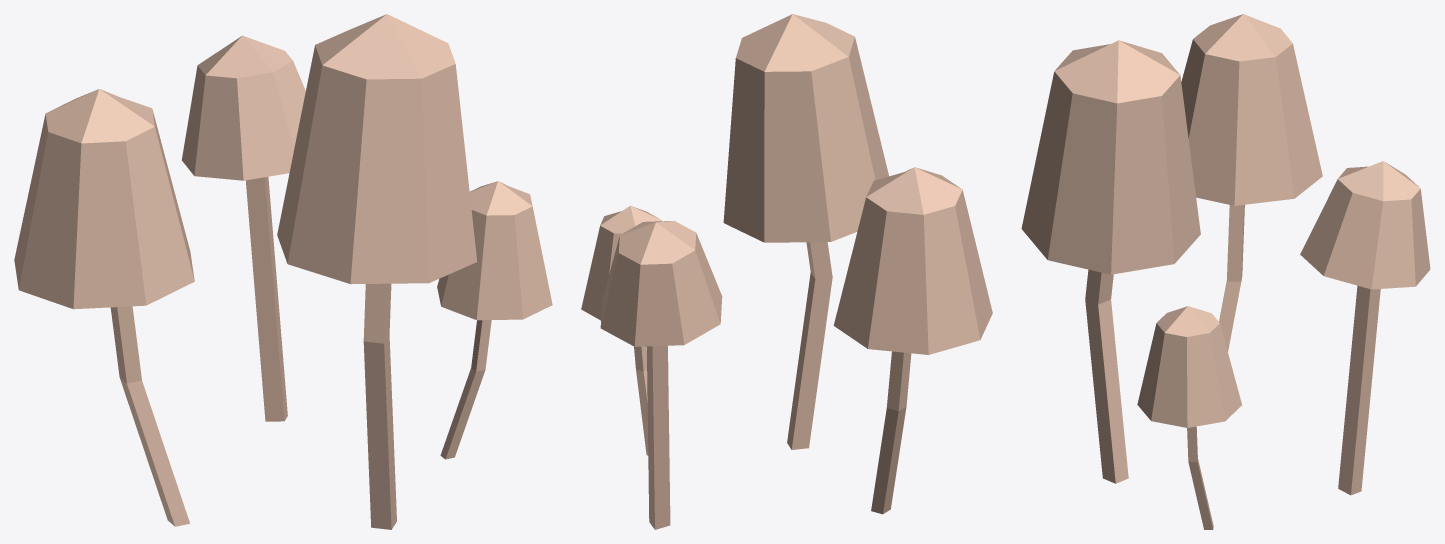
Rendered from Mushroom_b_04.fbx.
3 renders of one model, left to right at view 1: azimuth 30°, elevation 25°; view 2: azimuth 150°, elevation 25°; view 3: azimuth 270°, elevation 25°, orthographic. The views are drawn at different scales.
Parts seen in each view (by area): view 1: Mushroom_b_04; view 2: Mushroom_b_04; view 3: Mushroom_b_04.
Part boxes in pixels (x1,y1,x2,y2): Mushroom_b_04: (14,14,552,529); Mushroom_b_04: (581,14,992,529); Mushroom_b_04: (1021,14,1430,529).
Size of the model in its own units: 33.23 by 32.67 by 27.4.
